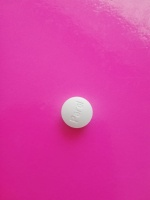Parol: (60, 95, 94, 130)
